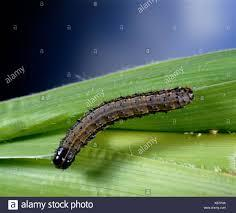fallarmy_worm: (50, 86, 200, 174)
